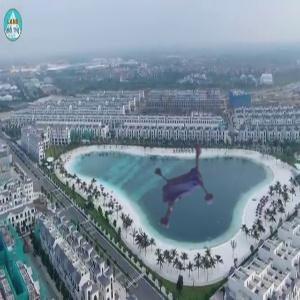drone: (133, 151, 233, 251)
